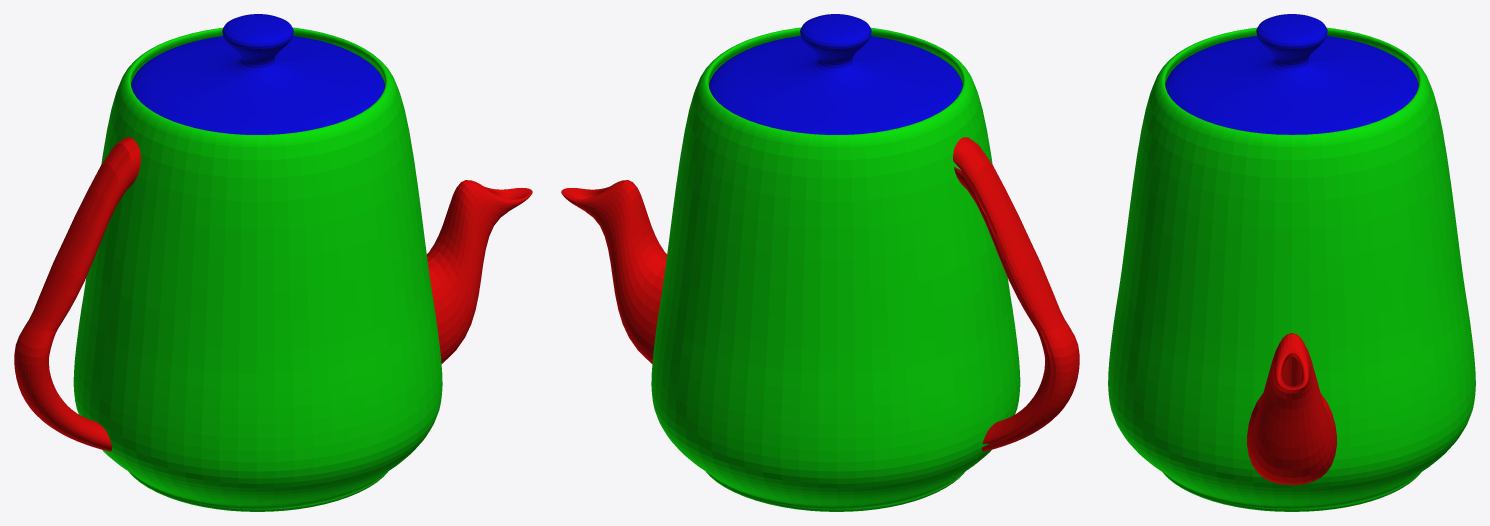
Rendered from mv_CoffeePot.fbx.
3 views of the same model, side by side, from view 1: azimuth 30°, elevation 25°; view 2: azimuth 150°, elevation 25°; view 3: azimuth 270°, elevation 25° (orthographic).
Parts seen in each view (by area): view 1: CoffeePot_LOD0; view 2: CoffeePot_LOD0; view 3: CoffeePot_LOD0.
Boxes of the visible parts, x1,y1,x2,y2 form: CoffeePot_LOD0: [14, 14, 532, 511]; CoffeePot_LOD0: [561, 14, 1079, 511]; CoffeePot_LOD0: [1108, 14, 1475, 511].
Size of what is drawn, in the model's own units: 32.21 by 26.33 by 20.
